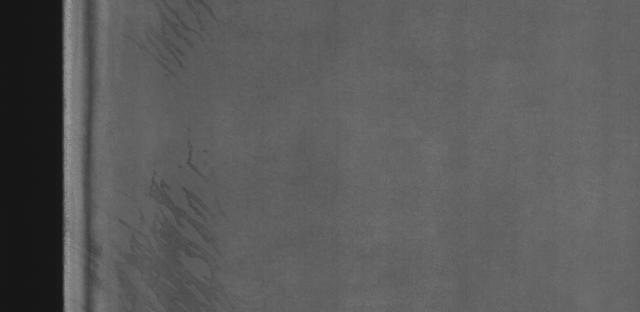water_spot: (101, 151, 232, 312), (138, 9, 258, 77)
